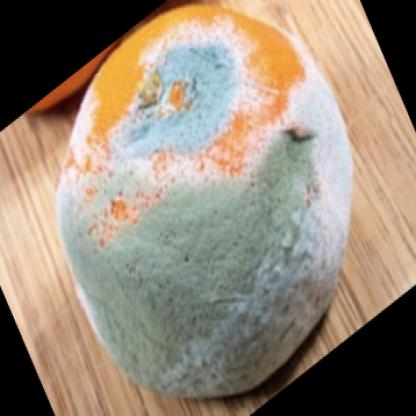rotten: (60, 6, 352, 399)
